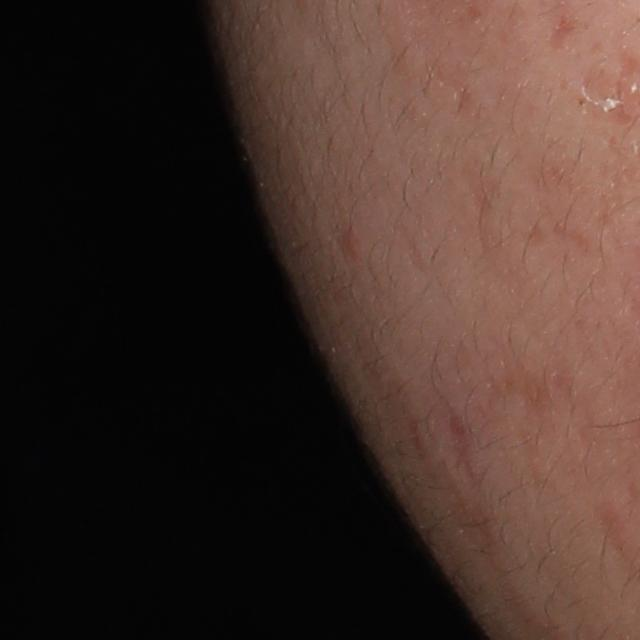atrophic_scar: (442, 405, 480, 492), (546, 12, 581, 54)
